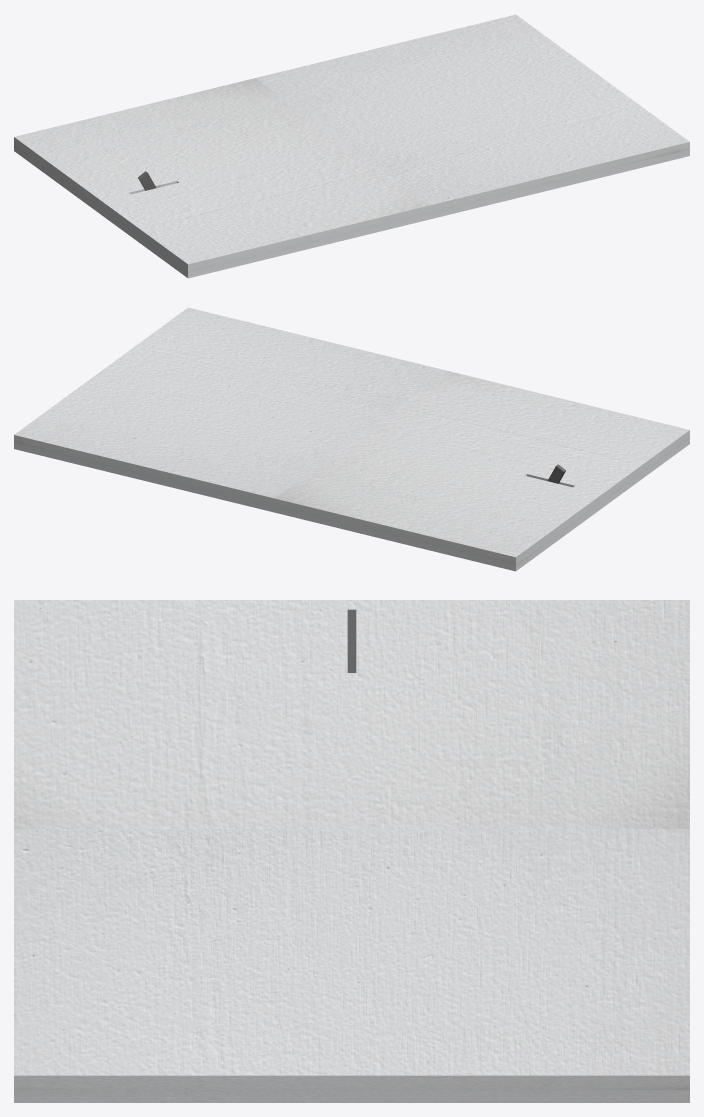
Rendered from hatch.glb.
The picture shows the model from 3 angles, top to bottom: view 1: azimuth 30°, elevation 25°; view 2: azimuth 150°, elevation 25°; view 3: azimuth 270°, elevation 25°; orthographic projection. The views are drawn at different scales.
Visible parts, largest first — view 1: Cube.002; view 2: Cube.002; view 3: Cube.002.
Part boxes in pixels (x1=…): Cube.002: x1=14, y1=14, x2=689, y2=278; Cube.002: x1=14, y1=307, x2=689, y2=571; Cube.002: x1=14, y1=600, x2=689, y2=1102.
Bounding box in the file's own units: 2.15 × 0.2764 × 1.29.
2 materials, 1 textured.
